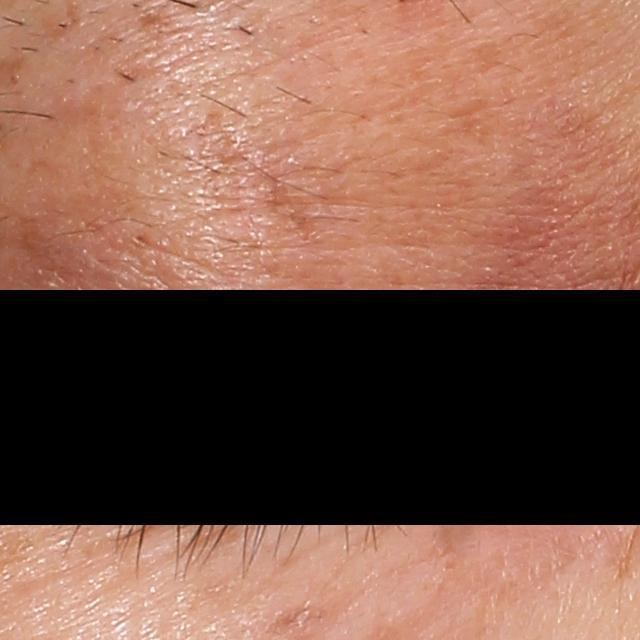melasma: (194, 104, 335, 257), (466, 153, 580, 331), (259, 599, 327, 640), (463, 37, 512, 82)
